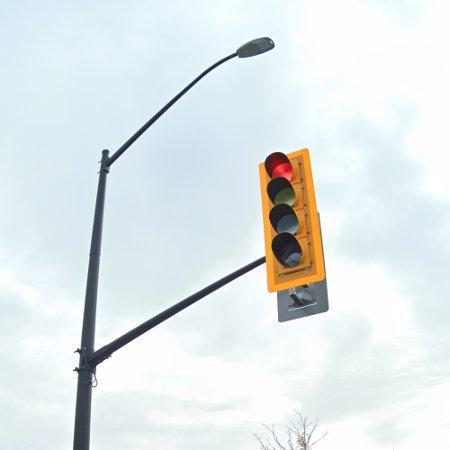traffic lights: (260, 149, 326, 293)
